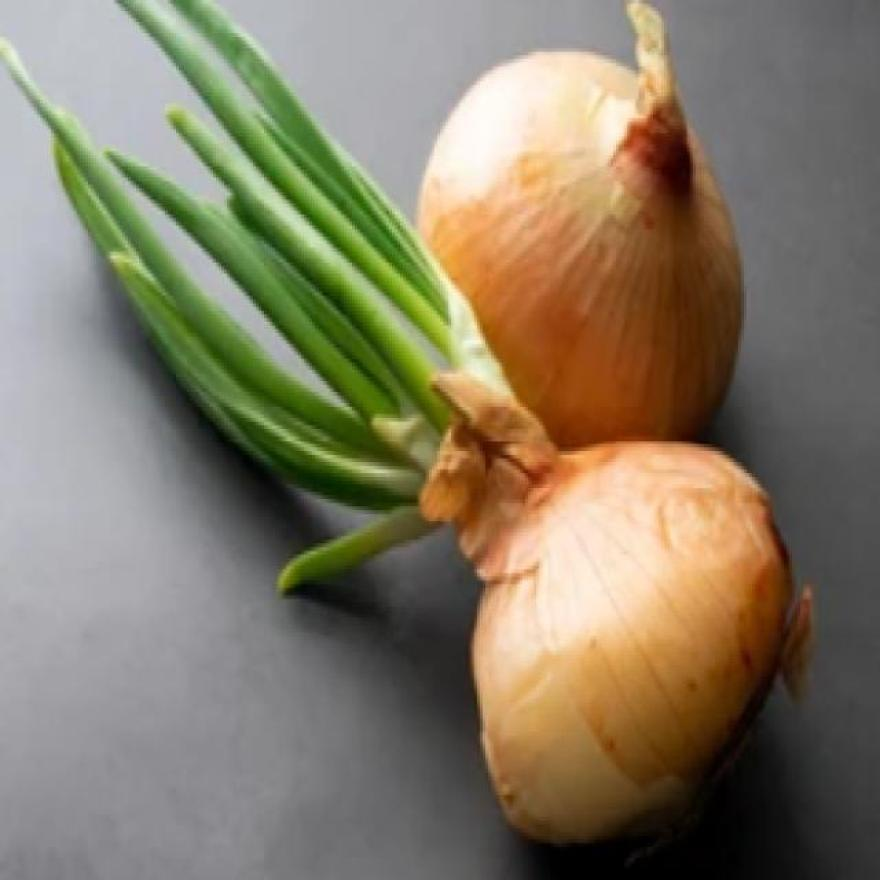Sprouted: (102, 137, 514, 500)
